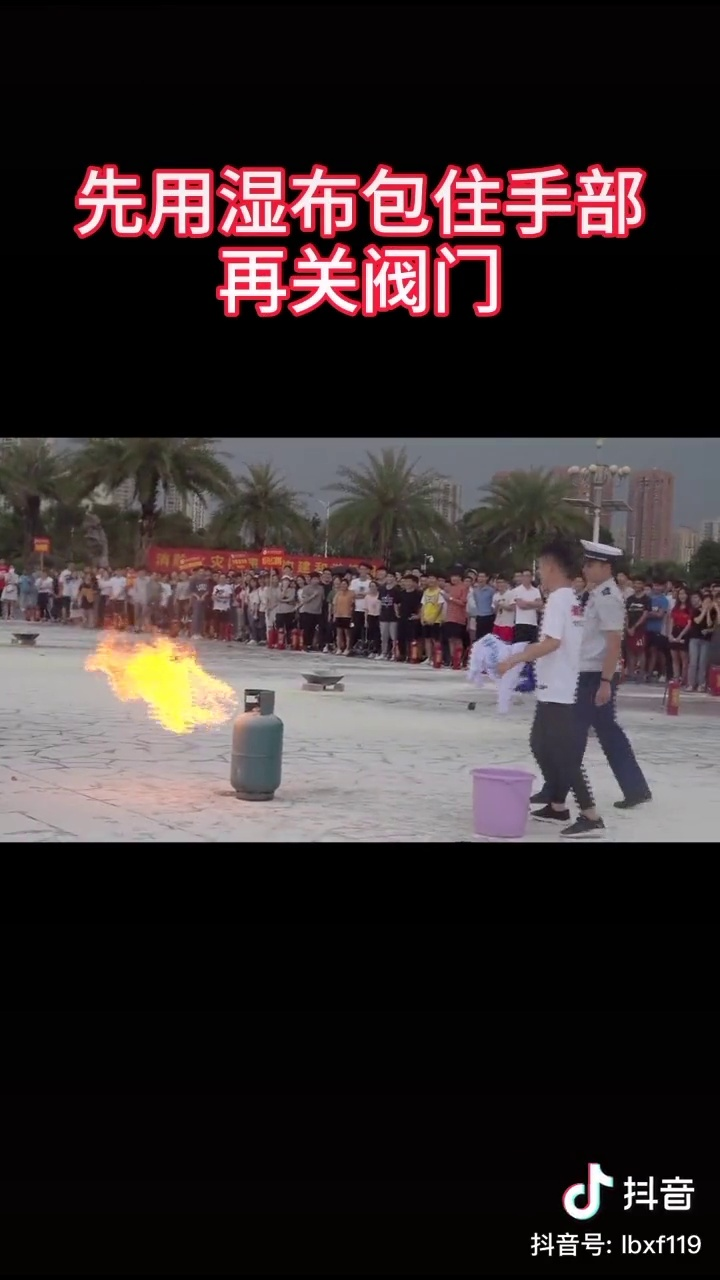fire: (80, 616, 231, 730)
